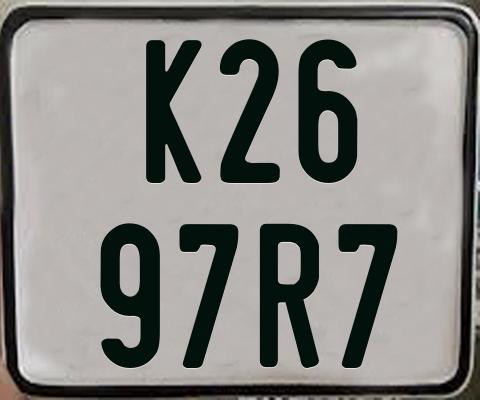2: (217, 38, 277, 183)
6: (297, 37, 359, 183)
7: (179, 221, 244, 366), (335, 223, 397, 367)
9: (100, 220, 160, 371)
K: (145, 37, 206, 181)
R: (259, 224, 322, 374)
